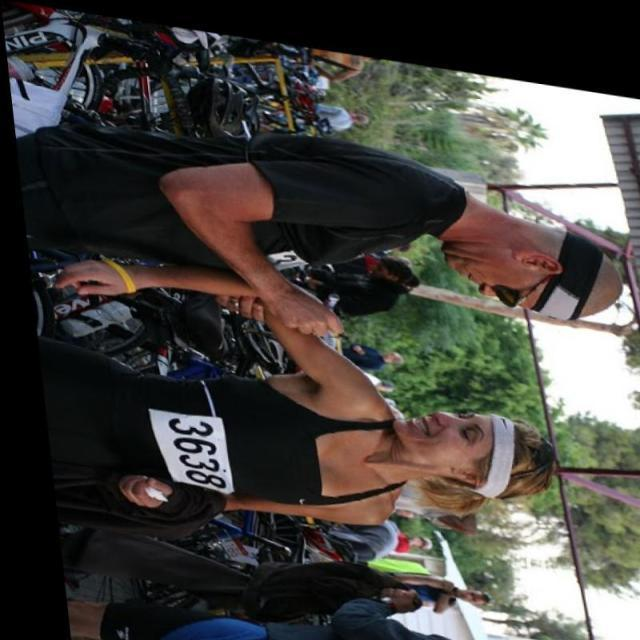dorsal: (133, 388, 228, 497)
